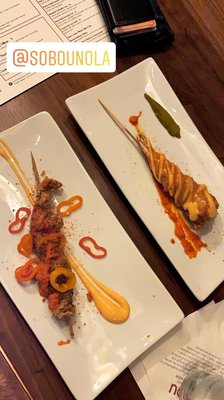curry: (97, 0, 165, 38)
